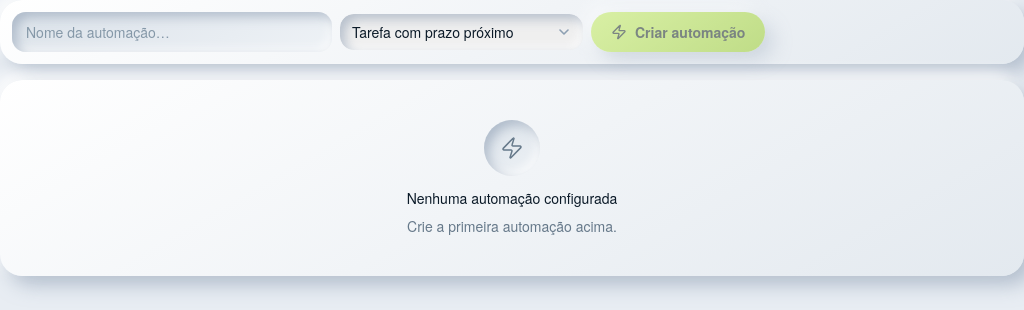
Test case: AutomationsPanel › creates a new automation from the quick-create form
Expected: the text "Nenhuma automação configurada" is shown, top-left (407, 188), bottom-right (617, 208)
Type "Nova automação" into the field with placeholder "Nome da automação…".
click(172, 32); type("Nova automação")  # box top-left (12, 12), bottom-right (332, 52)
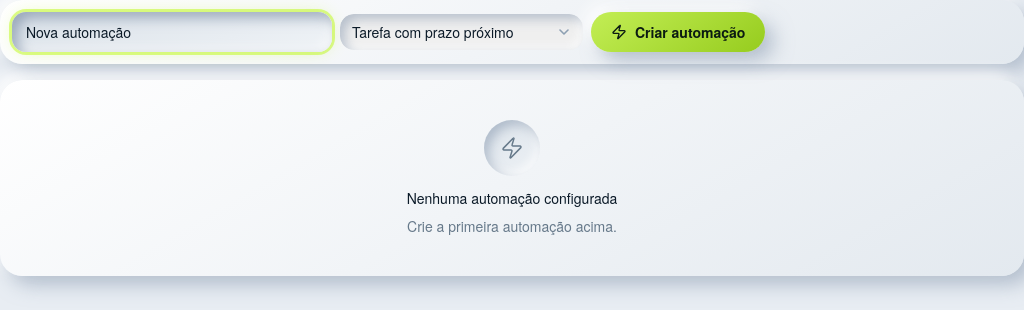
Select "Tarefa com prazo próximo" in the dropdown named "gatilho" at [462, 32], box top-left (340, 14), bottom-right (583, 50)
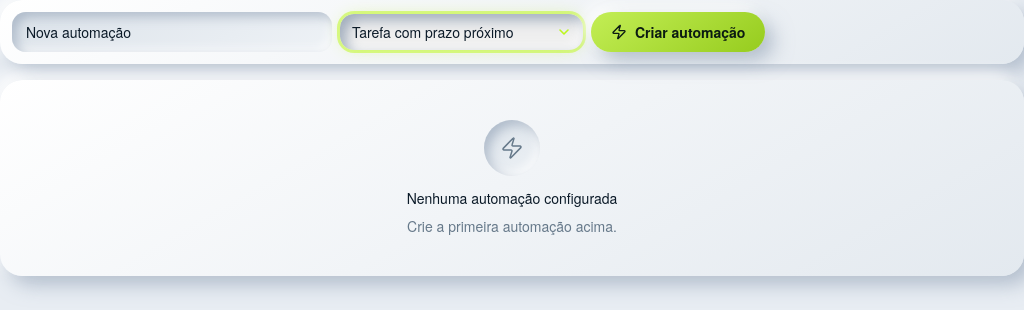
Click the button "Criar automação".
click(678, 32)  # box top-left (591, 12), bottom-right (765, 52)
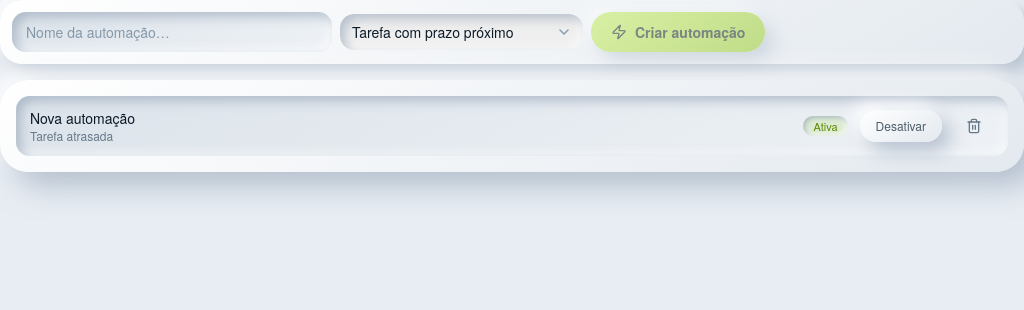
Expected: the text "Nova automação" is shown, top-left (30, 108), bottom-right (135, 128)
